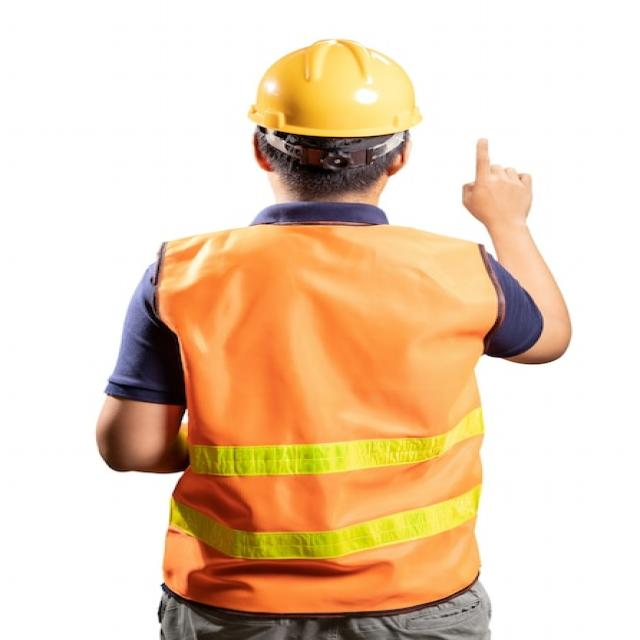Reflective-Jacket: (132, 214, 511, 616)
Safety-Helmet: (241, 34, 429, 143)
